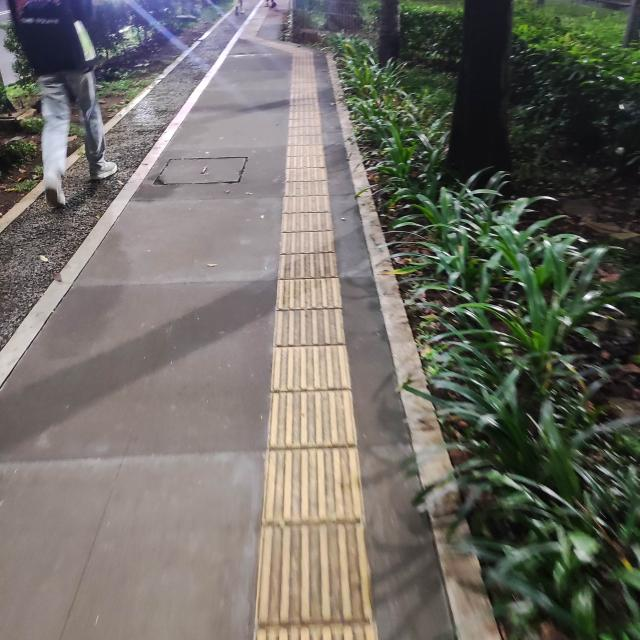lurus: (234, 125, 388, 640)
